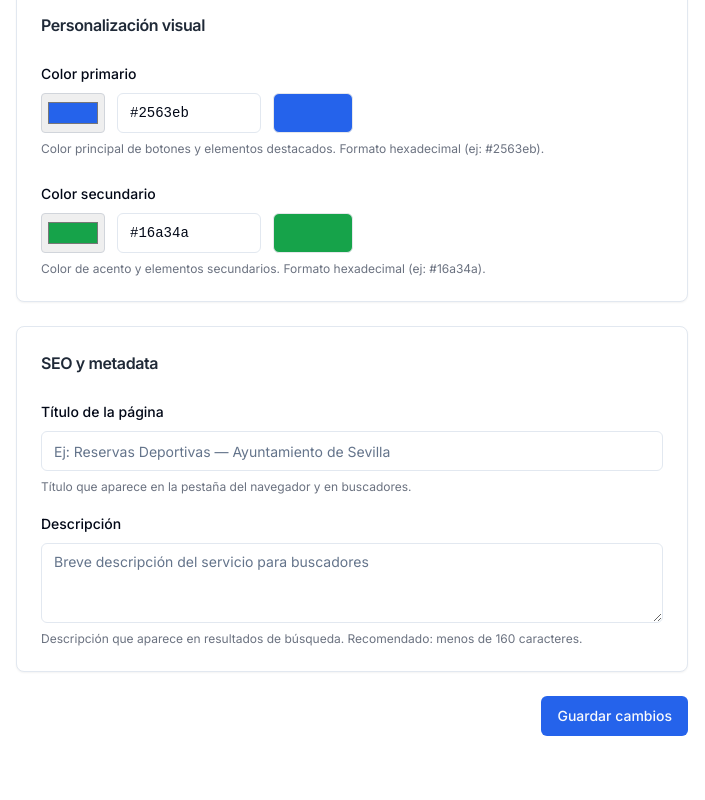
Test: Página de configuración del tenant › muestra mensaje de éxito tras guardar
The width and height of the screenshot is (705, 800).
(page scrolled)
Step 1. Click the button "Guardar cambios" → (615, 716), box [542,696,688,736]
(page scrolled)
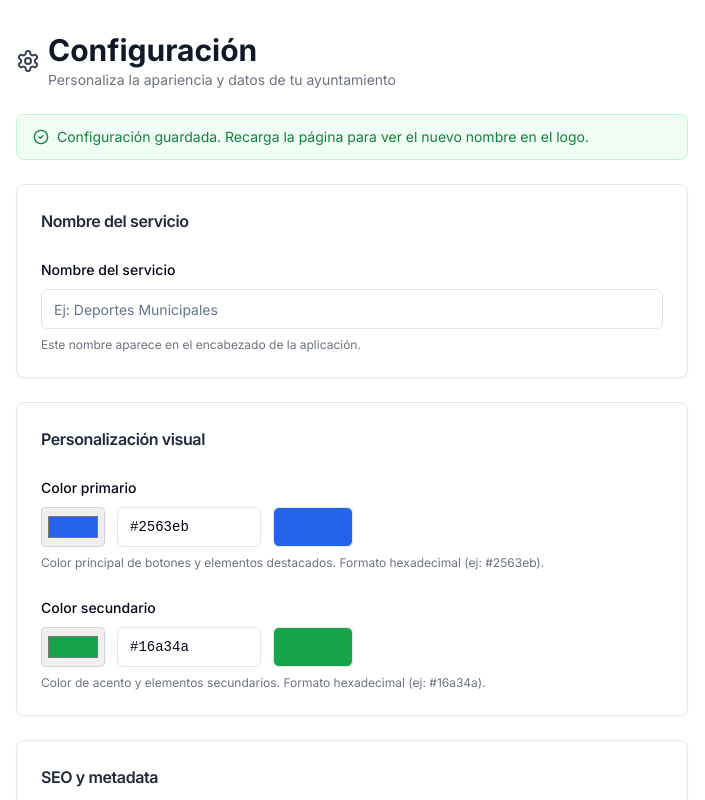
Expected: the text "Configuración guardada" is shown, [57,128,589,145]
